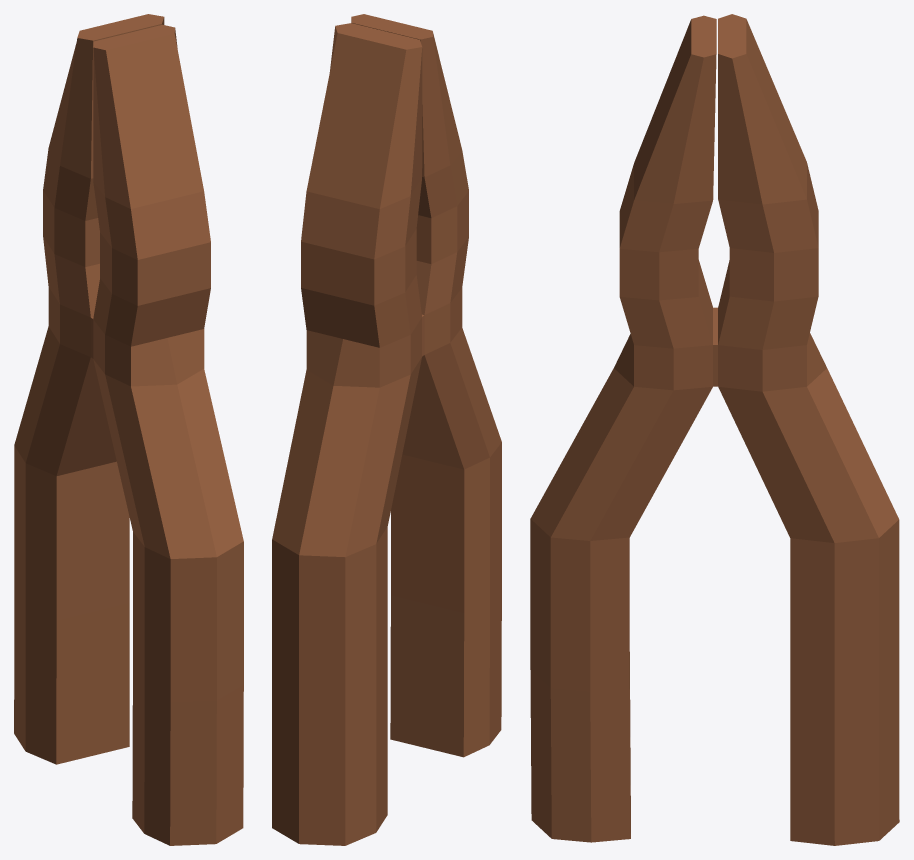
The model's file is bronze_pliers.glb.
3 renders of one model, left to right at view 1: azimuth 30°, elevation 25°; view 2: azimuth 150°, elevation 25°; view 3: azimuth 270°, elevation 25°, orthographic. The views are drawn at different scales.
Visible parts, largest first — view 1: Cube; view 2: Cube; view 3: Cube.
Boxes of the visible parts, <box> form: Cube: <box>14,14,243,845</box>; Cube: <box>272,14,501,845</box>; Cube: <box>530,14,899,845</box>.
Bounding box in the file's own units: 0.4378 × 3.38 × 1.44.
